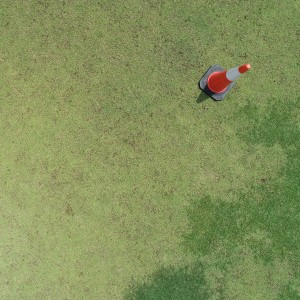traffic cone: (198, 63, 252, 101)
